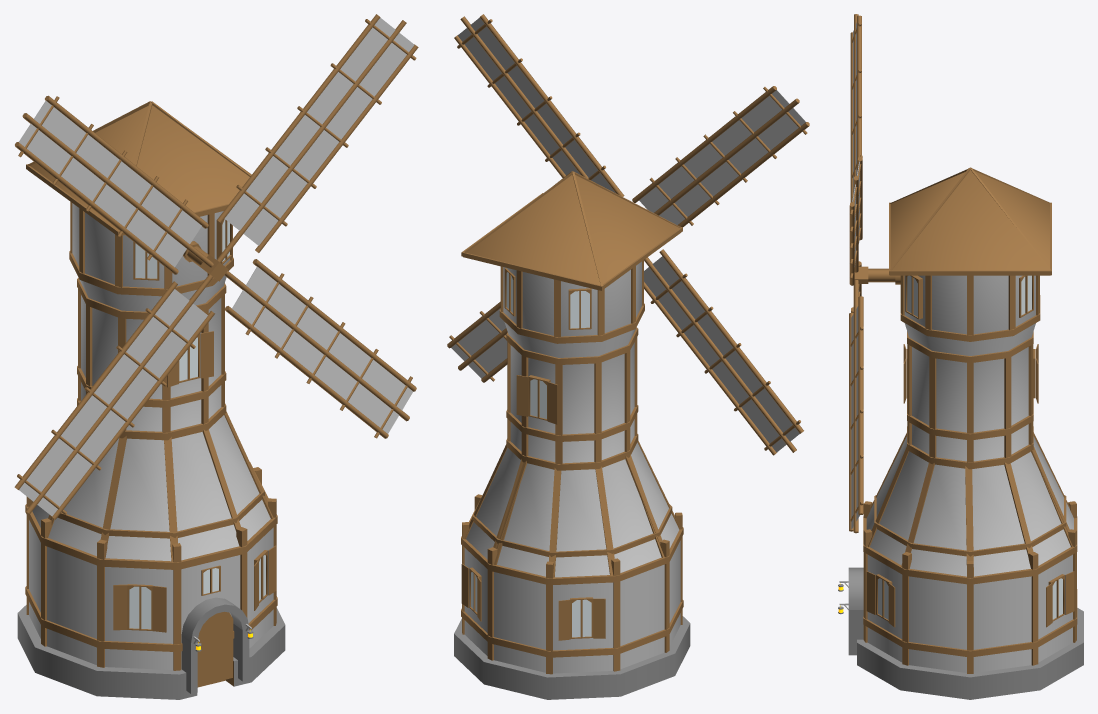
Rendered from MillModel.fbx.
3 views of the same model, side by side, from view 1: azimuth 30°, elevation 25°; view 2: azimuth 150°, elevation 25°; view 3: azimuth 270°, elevation 25° (orthographic). The views are drawn at different scales.
Parts seen in each view (by area): view 1: Null_1; view 2: Null_1; view 3: Null_1.
Boxes of the visible parts, <box> form: Null_1: <box>14,14,418,699</box>; Null_1: <box>447,14,809,699</box>; Null_1: <box>838,14,1083,699</box>.
Bounding box in the file's own units: 181 × 271 × 107.
